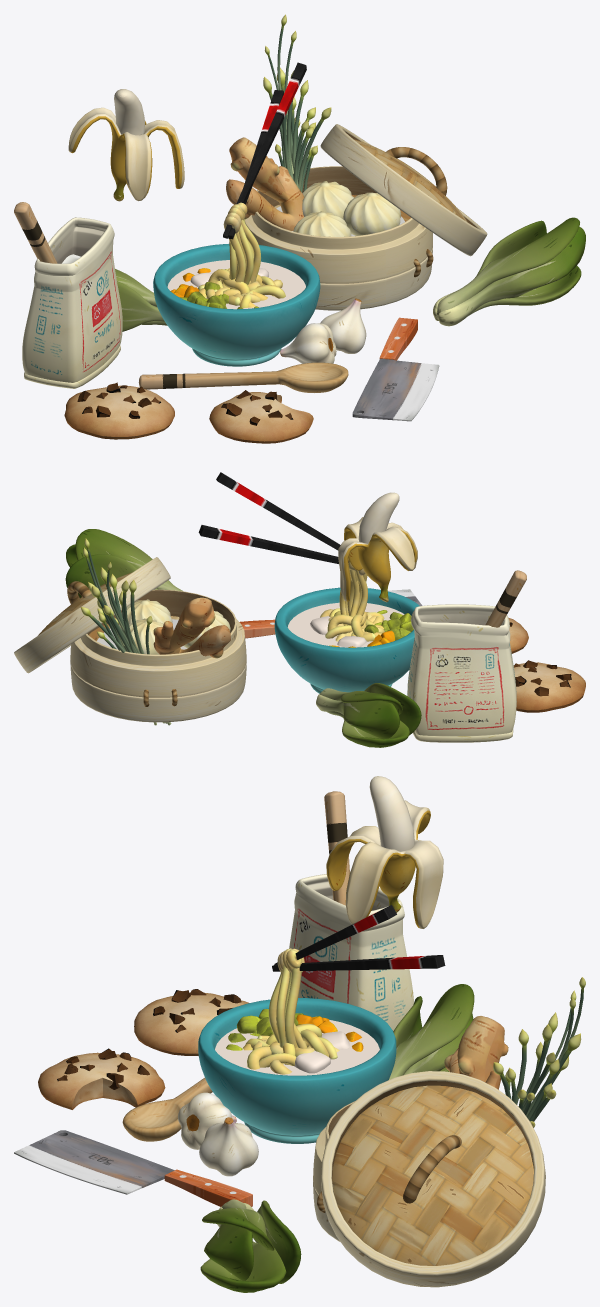
Rendered from From_the_Chubby_Kitchen.glb.
The picture shows the model from 3 angles, top to bottom: view 1: azimuth 30°, elevation 25°; view 2: azimuth 150°, elevation 25°; view 3: azimuth 270°, elevation 25°; orthographic projection. The views are drawn at different scales.
Visible parts, largest first — view 1: unnamed (×16); view 2: unnamed (×16); view 3: unnamed (×16).
Part boxes in pixels (x1,y1,x2,y2): unnamed (×16): [14, 14, 585, 443]; unnamed (×16): [14, 472, 585, 747]; unnamed (×16): [14, 776, 585, 1292].
Size of what is drawn, in the model's own units: 16.8 by 8.5 by 13.05.
15 materials, 14 textured.
